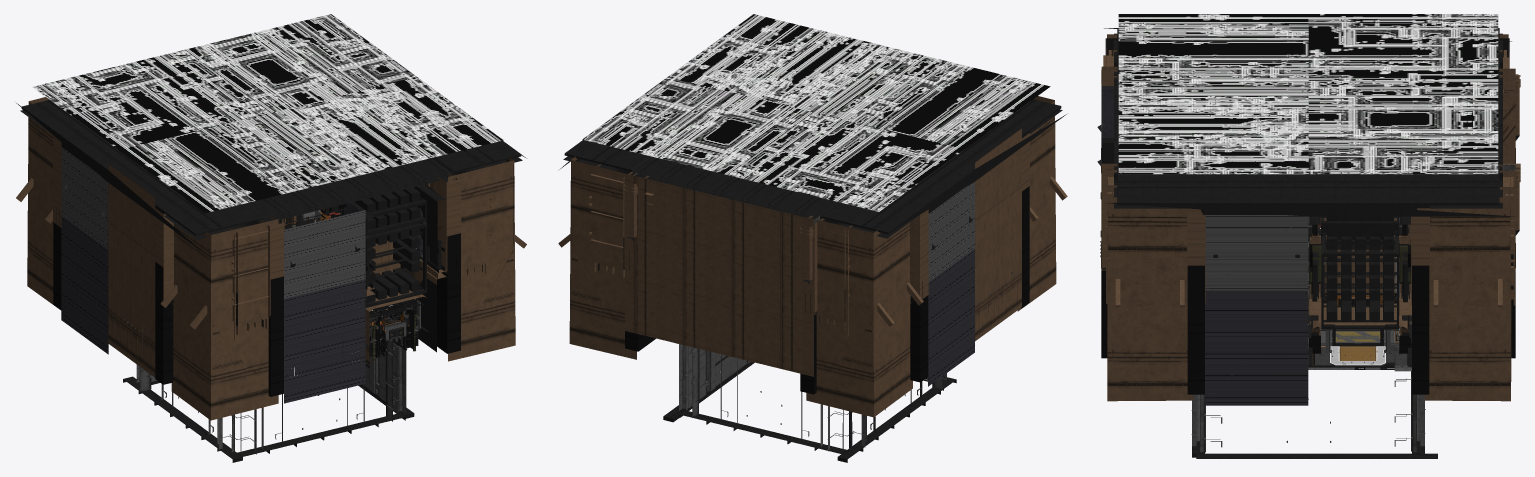
File: util-smltop.glb
The picture shows the model from 3 angles, left to right: view 1: azimuth 30°, elevation 25°; view 2: azimuth 150°, elevation 25°; view 3: azimuth 270°, elevation 25°; orthographic projection. The views are drawn at different scales.
Visible parts, largest first — view 1: object 1, object 52, object 14, object 46, object 28, object 20, furniture_2_2, furniture_5_5; view 2: object 52, object 1, object 14, object 28, object 46; view 3: object 1, object 52, object 14, object 46, object 28, furniture_3_3, object 20, furniture_4_4, object 16, object 2.
Boxes of the visible parts, <box> form: object 1: <box>32,14,503,213</box>; object 52: <box>16,97,526,420</box>; object 14: <box>16,100,526,462</box>; object 46: <box>61,183,422,403</box>; object 28: <box>61,147,420,454</box>; object 20: <box>268,208,446,357</box>; furniture_2_2: <box>367,215,420,301</box>; furniture_5_5: <box>355,187,420,227</box>; object 52: <box>558,96,1067,417</box>; object 1: <box>582,14,1050,211</box>; object 14: <box>558,99,1066,462</box>; object 28: <box>679,182,1006,451</box>; object 46: <box>928,216,974,386</box>; object 1: <box>1118,14,1498,174</box>; object 52: <box>1101,34,1520,401</box>; object 14: <box>1100,28,1519,458</box>; object 46: <box>1097,86,1409,405</box>; object 28: <box>1100,84,1425,452</box>; furniture_3_3: <box>1326,236,1393,321</box>; object 20: <box>1101,220,1515,354</box>; furniture_4_4: <box>1326,216,1393,239</box>; object 16: <box>1330,346,1376,360</box>; object 2: <box>1299,244,1411,304</box>.
Size of what is drawn, in the model's own units: 100 by 81.25 by 98.12.
268 materials, 210 textured.
